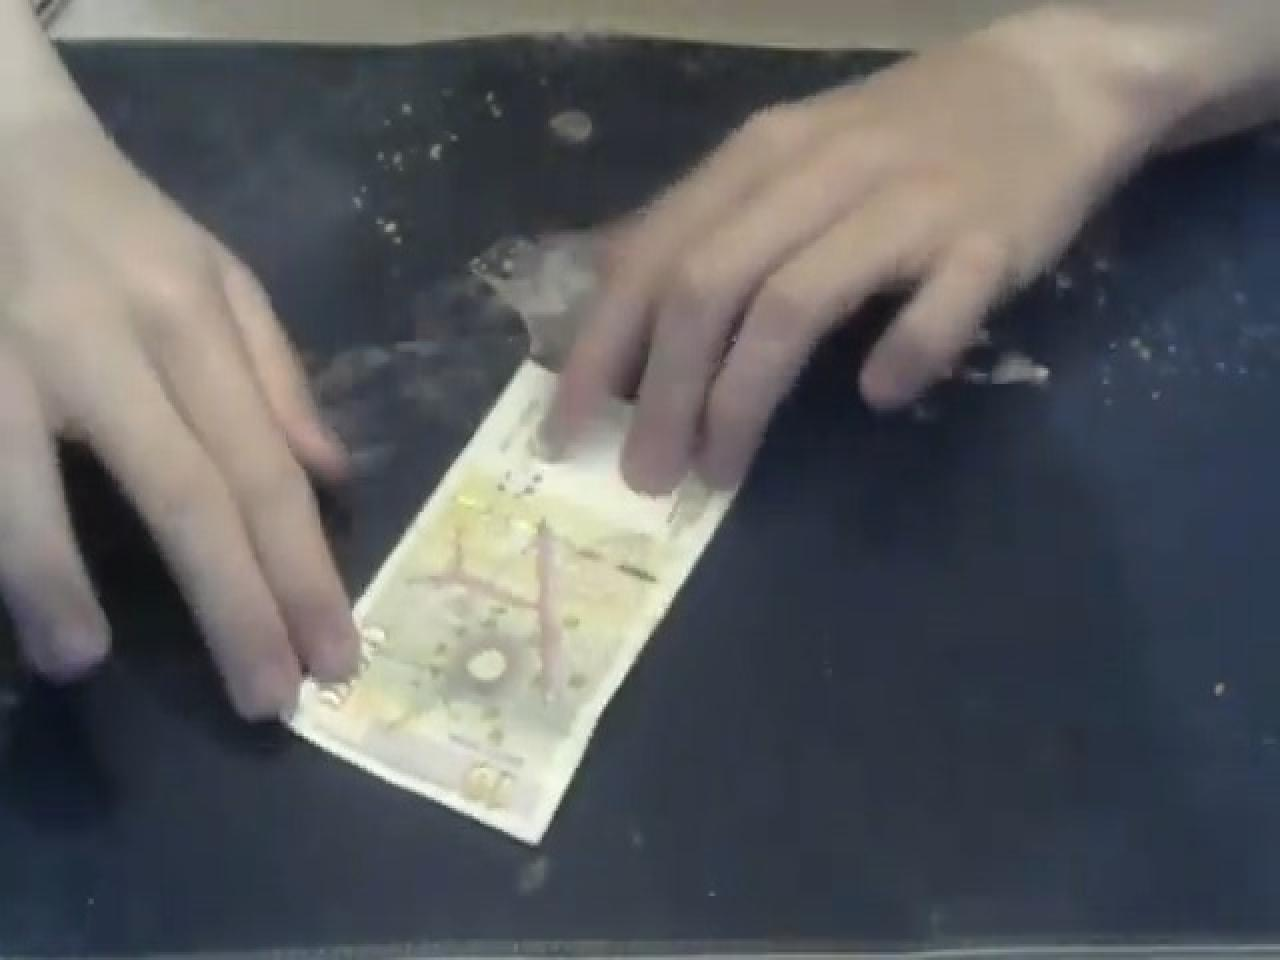10leva: (288, 363, 738, 848)
